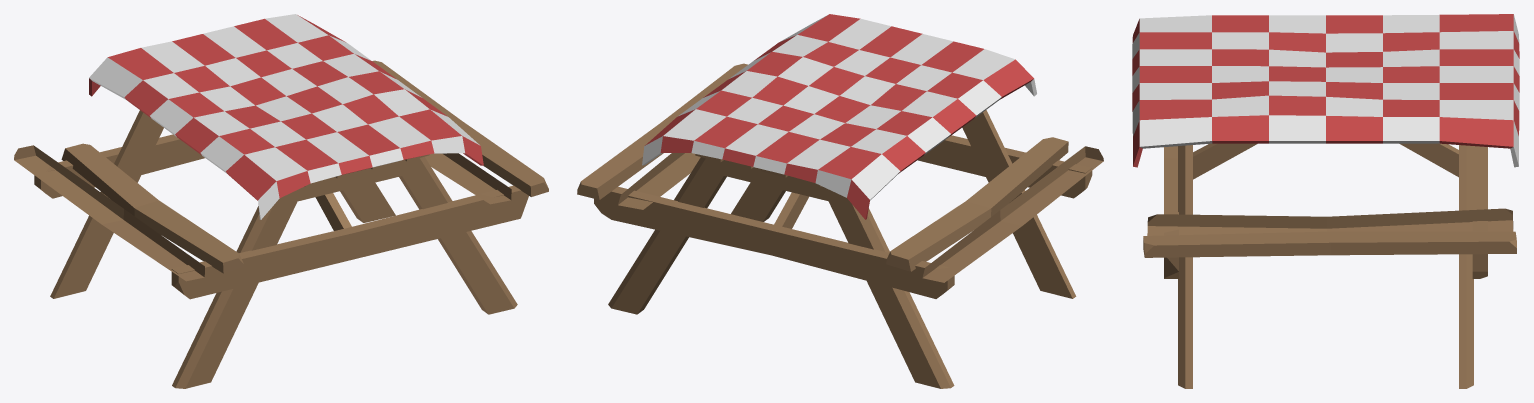
File: picnic_table.glb
3 renders of one model, left to right at view 1: azimuth 30°, elevation 25°; view 2: azimuth 150°, elevation 25°; view 3: azimuth 270°, elevation 25°, orthographic. The views are drawn at different scales.
Parts seen in each view (by area): view 1: Bench, Cover_32d358, Cover_f6e685; view 2: Bench, Cover_32d358, Cover_f6e685; view 3: Bench, Cover_f6e685, Cover_32d358.
Boxes of the visible parts, x1,y1,x2,y2 form: Bench: [14, 60, 548, 388]; Cover_32d358: [89, 14, 479, 219]; Cover_f6e685: [89, 15, 483, 200]; Bench: [577, 63, 1103, 388]; Cover_32d358: [642, 15, 1036, 200]; Cover_f6e685: [645, 14, 1033, 219]; Bench: [1143, 143, 1516, 388]; Cover_f6e685: [1132, 14, 1519, 167]; Cover_32d358: [1132, 14, 1519, 167].
Bounding box in the file's own units: 1.88 × 1.01 × 1.52.
